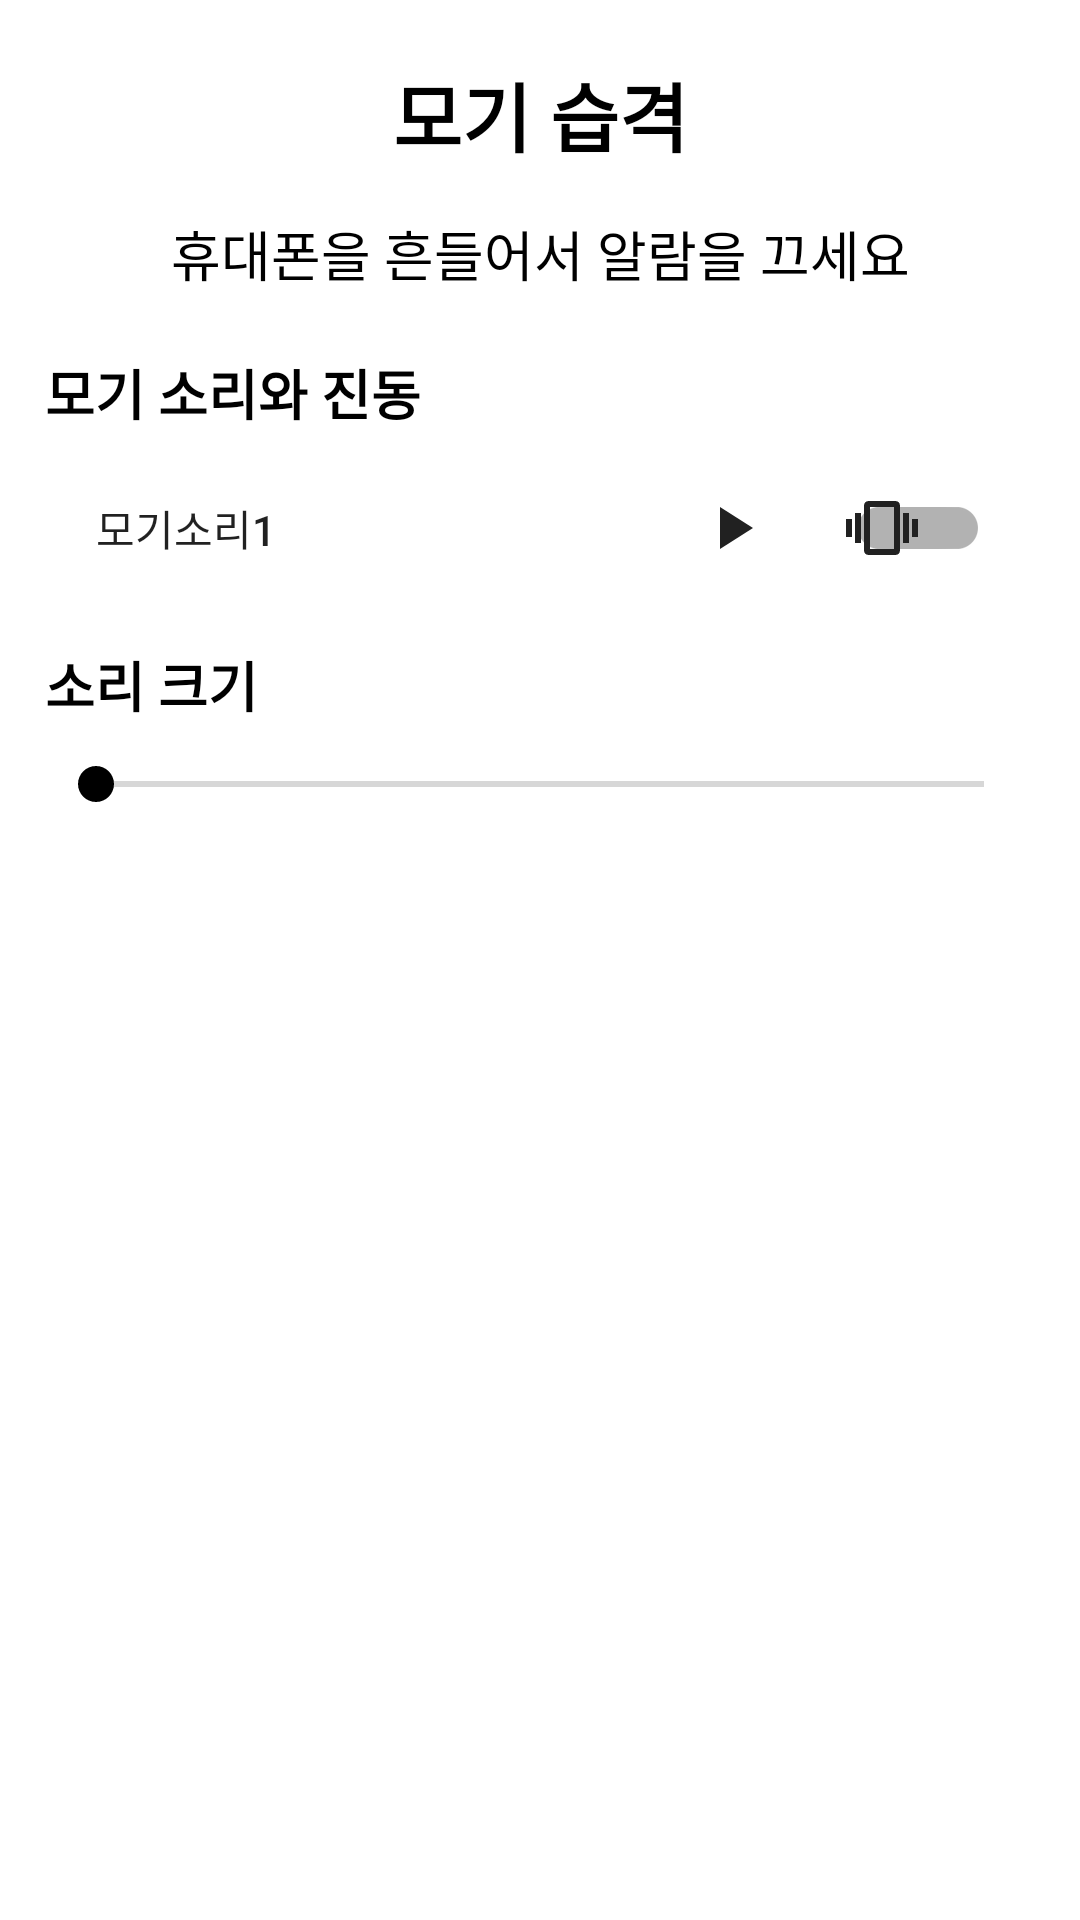

Point at icon controls on the screen. Image size 1080 x 1920, points as (x=x, y=y).
play arrow: (x=736, y=528)
